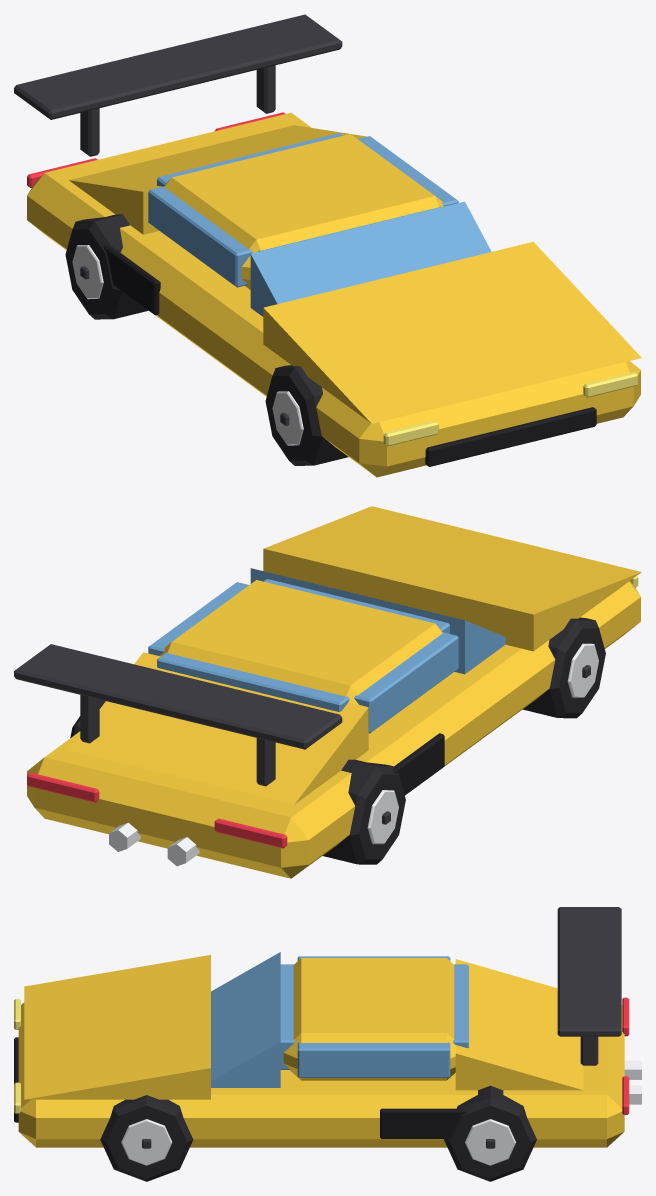
File: YellowSupercar.fbx
The picture shows the model from 3 angles, top to bottom: view 1: azimuth 30°, elevation 25°; view 2: azimuth 150°, elevation 25°; view 3: azimuth 270°, elevation 25°; orthographic projection. The views are drawn at different scales.
Visible parts, largest first — view 1: YellowSupercar, YellowSupercar_WheelBR, YellowSupercar_WheelFR; view 2: YellowSupercar, YellowSupercar_WheelBR, YellowSupercar_WheelFR; view 3: YellowSupercar, YellowSupercar_WheelBL, YellowSupercar_WheelFL.
Part boxes in pixels (box(x1,y1,x2,y2)): YellowSupercar: box(14, 14, 641, 477); YellowSupercar_WheelBR: box(65, 214, 148, 319); YellowSupercar_WheelFR: box(265, 365, 348, 465); YellowSupercar: box(14, 506, 641, 878); YellowSupercar_WheelBR: box(323, 759, 405, 864); YellowSupercar_WheelFR: box(523, 617, 605, 718); YellowSupercar: box(14, 907, 641, 1147); YellowSupercar_WheelBL: box(444, 1085, 536, 1181); YellowSupercar_WheelFL: box(100, 1095, 193, 1181).
Bounding box in the file's own units: 5.22 × 2.94 × 10.78.
Materials: 1 (1 with a texture image).
